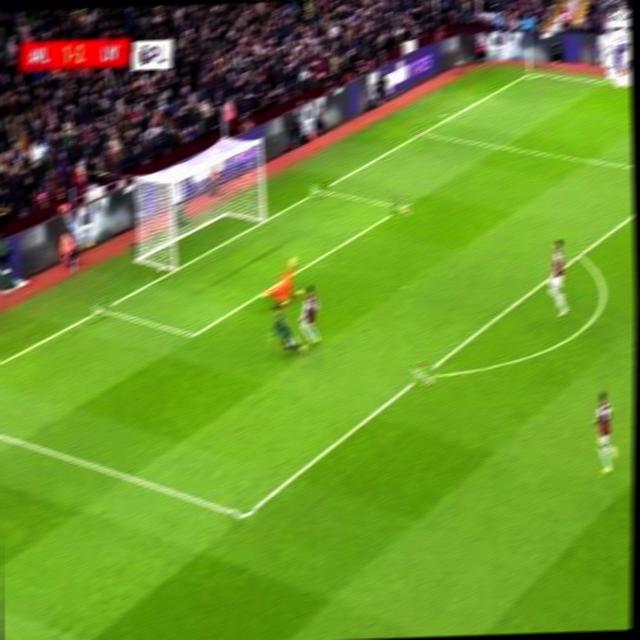bigarea_bottom_inner: (229, 498, 256, 532)
bigarea_top_outter: (412, 120, 431, 140)
bottom_arc_area_intersection: (411, 360, 434, 388)
corner: (517, 63, 542, 80)
smallarea_bottom_inner: (180, 318, 205, 349)
smallarea_bottom_outter: (90, 295, 113, 320)
smallarea_top_inner: (389, 194, 412, 218)
smallarea_top_outter: (310, 178, 331, 200)
top_arc_area_intersection: (570, 242, 589, 264)
